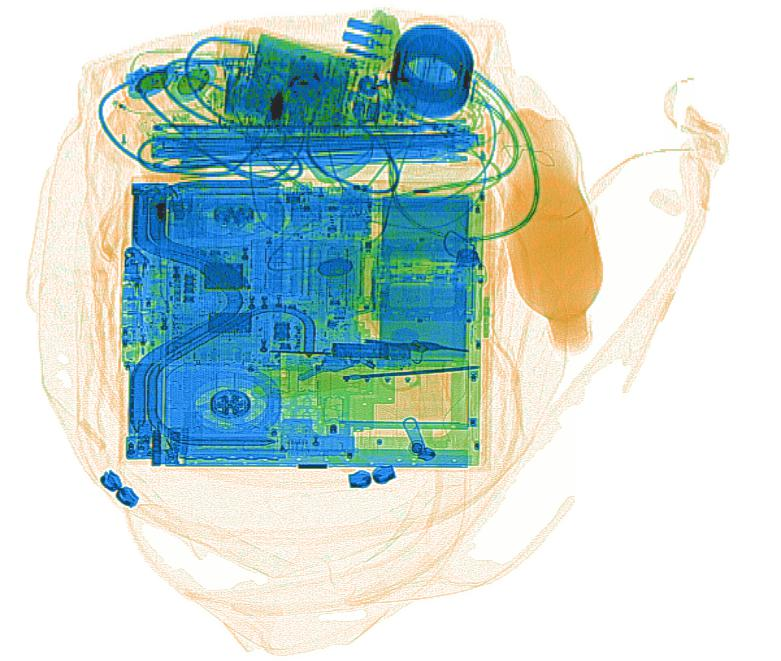battery: (328, 340, 413, 361)
